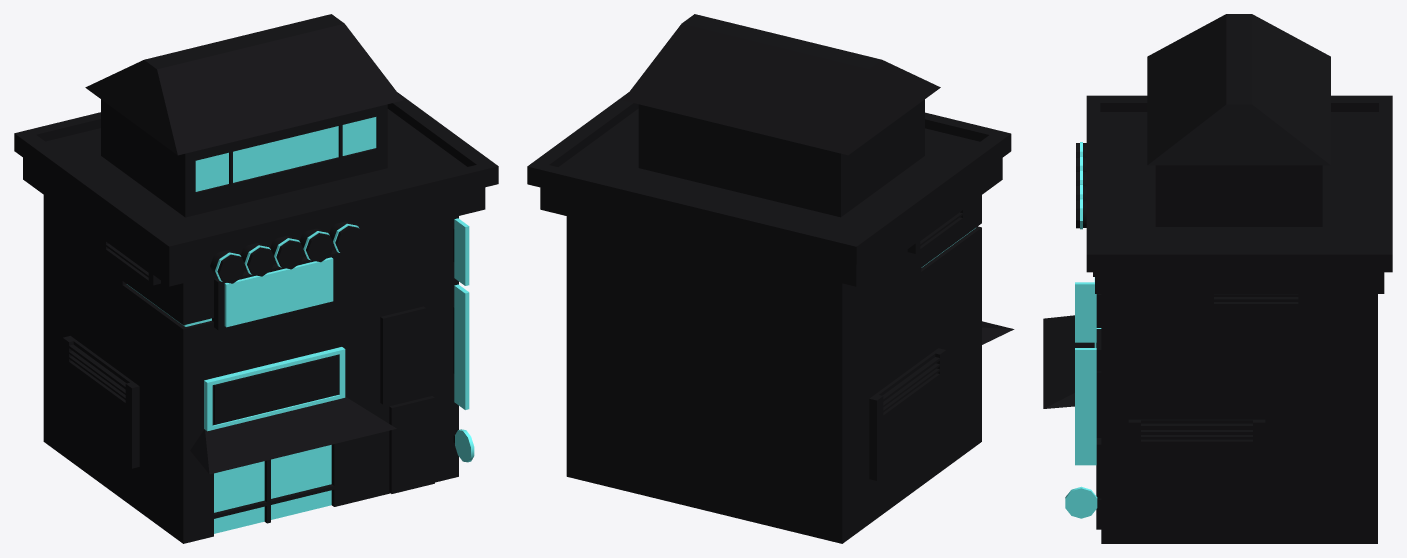
3 views of the same model, side by side, from view 1: azimuth 30°, elevation 25°; view 2: azimuth 150°, elevation 25°; view 3: azimuth 270°, elevation 25° (orthographic).
Parts seen in each view (by area): view 1: 001_build001; view 2: 001_build001; view 3: 001_build001.
Part boxes in pixels (box(x1,y1,x2,y2)): 001_build001: box(14, 14, 498, 543); 001_build001: box(527, 14, 1014, 543); 001_build001: box(1043, 14, 1392, 543).
Size of the model in its own units: 80.84 by 98.33 by 75.11.
